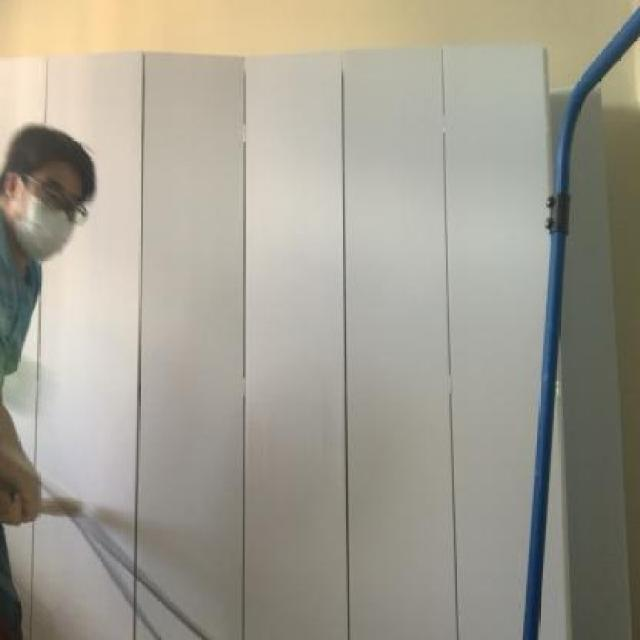baseball: (0, 350, 55, 414)
